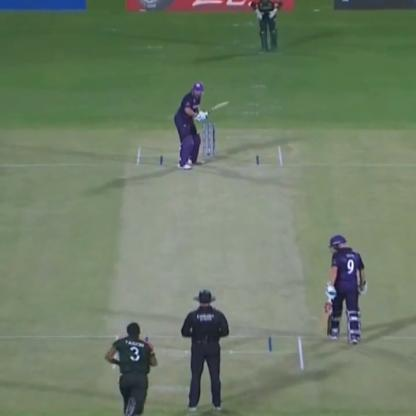bat: (318, 291, 332, 345), (201, 97, 235, 117)
pitch: (104, 142, 307, 386)
